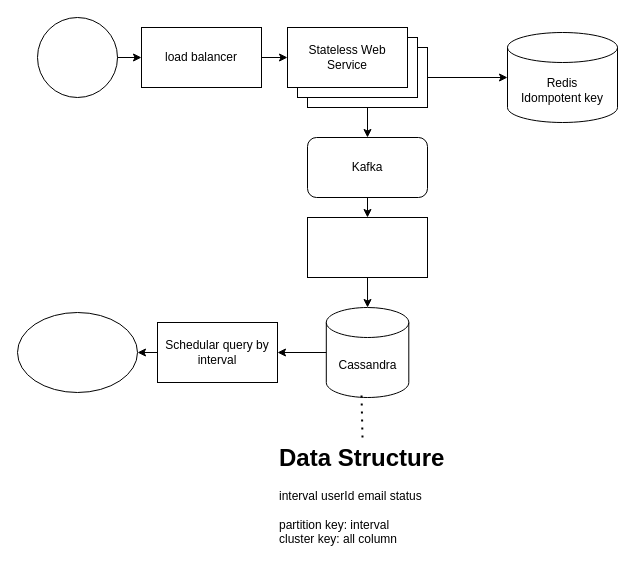
Some shapes in this 635 by 578 pixel diagram are drawn without their labels. Each missing label, with the box of its shape:
Client: (36, 16, 118, 98)
SMTP Server: (16, 312, 138, 392)
Workers: (306, 216, 428, 278)
